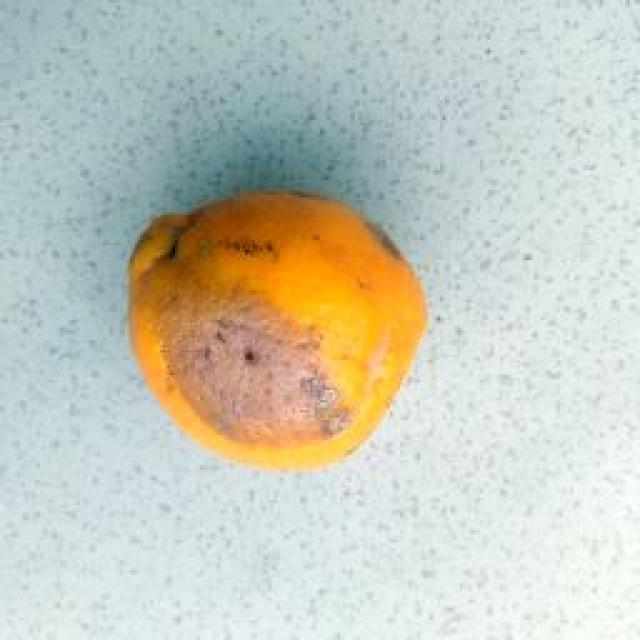Bad_Orange: (129, 192, 425, 468)
